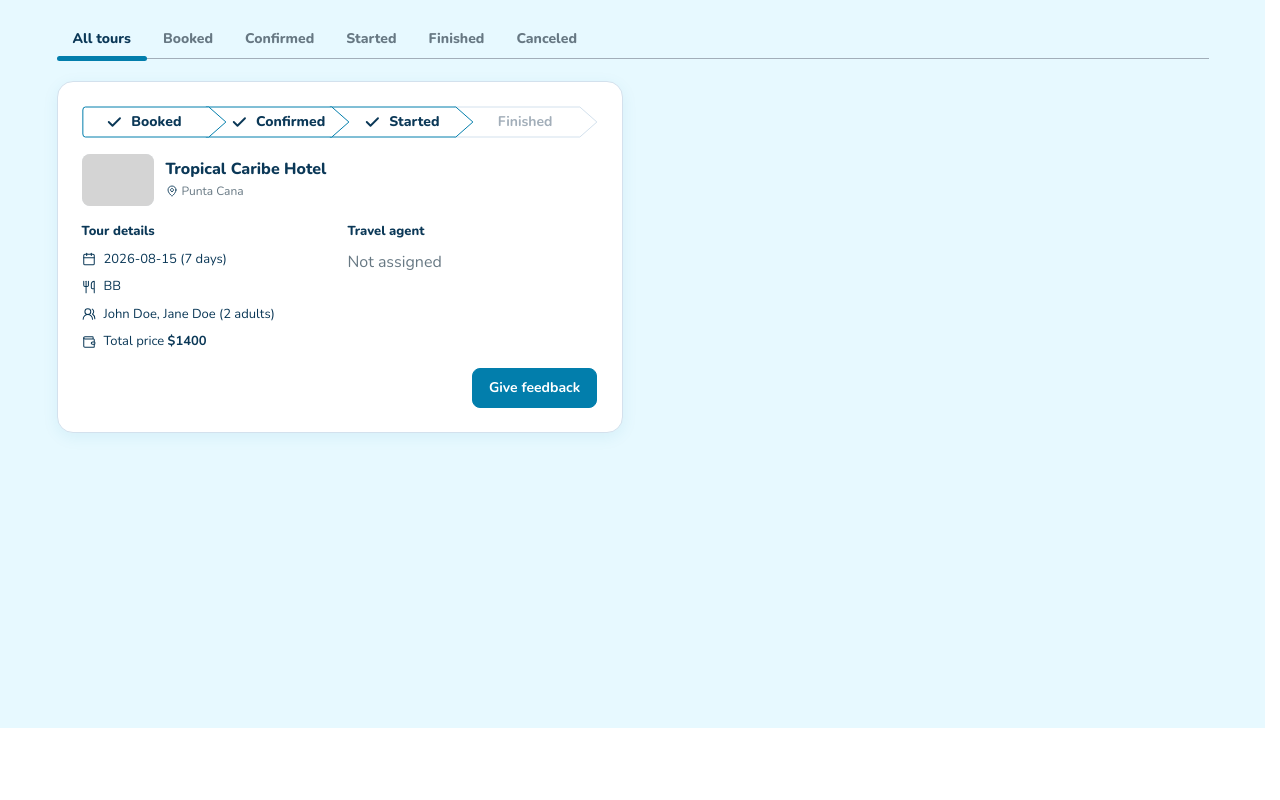
Test case: MyToursPage Component › submits feedback via bookingsService.submitFeedback and displays success toast on submit
Click the button "Give feedback" at (535,388), box [472,368,598,408]
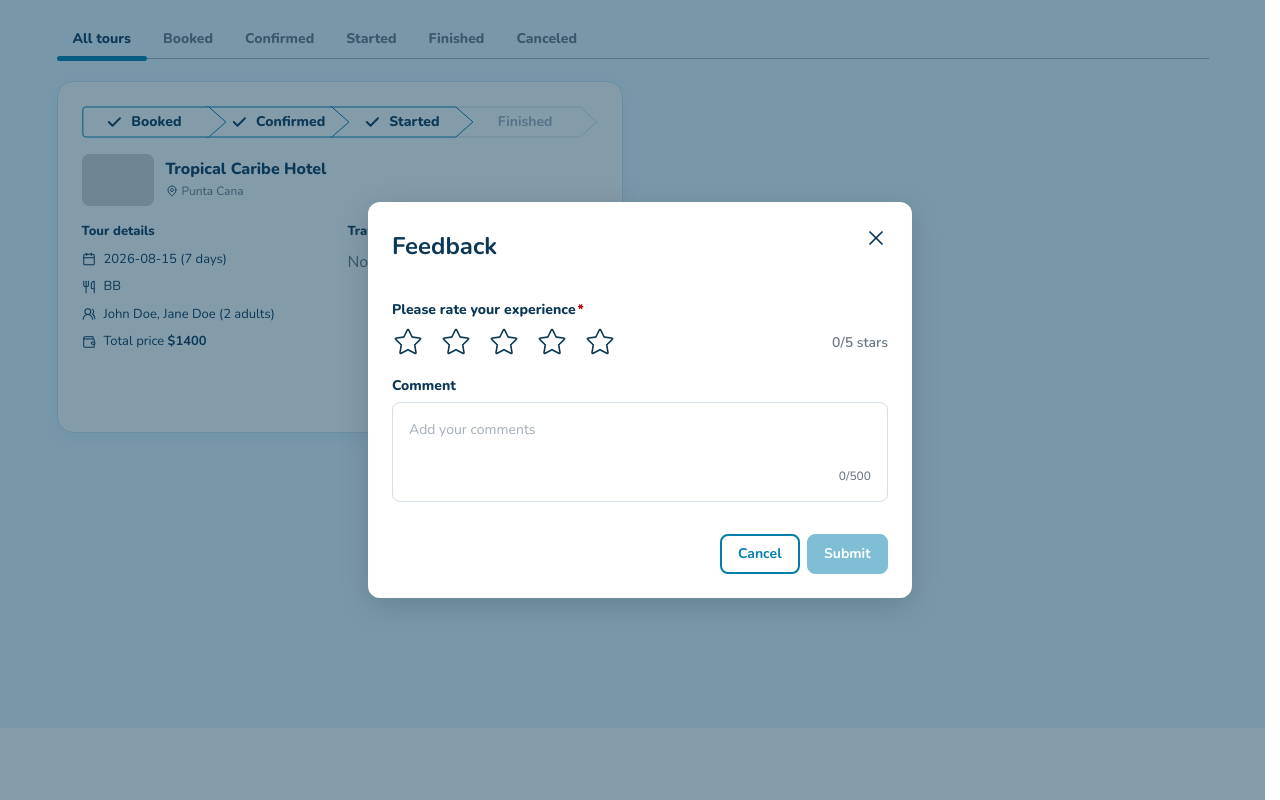
Click the button with test id "feedback-star-5" at (600,342), box [584,326,616,358]
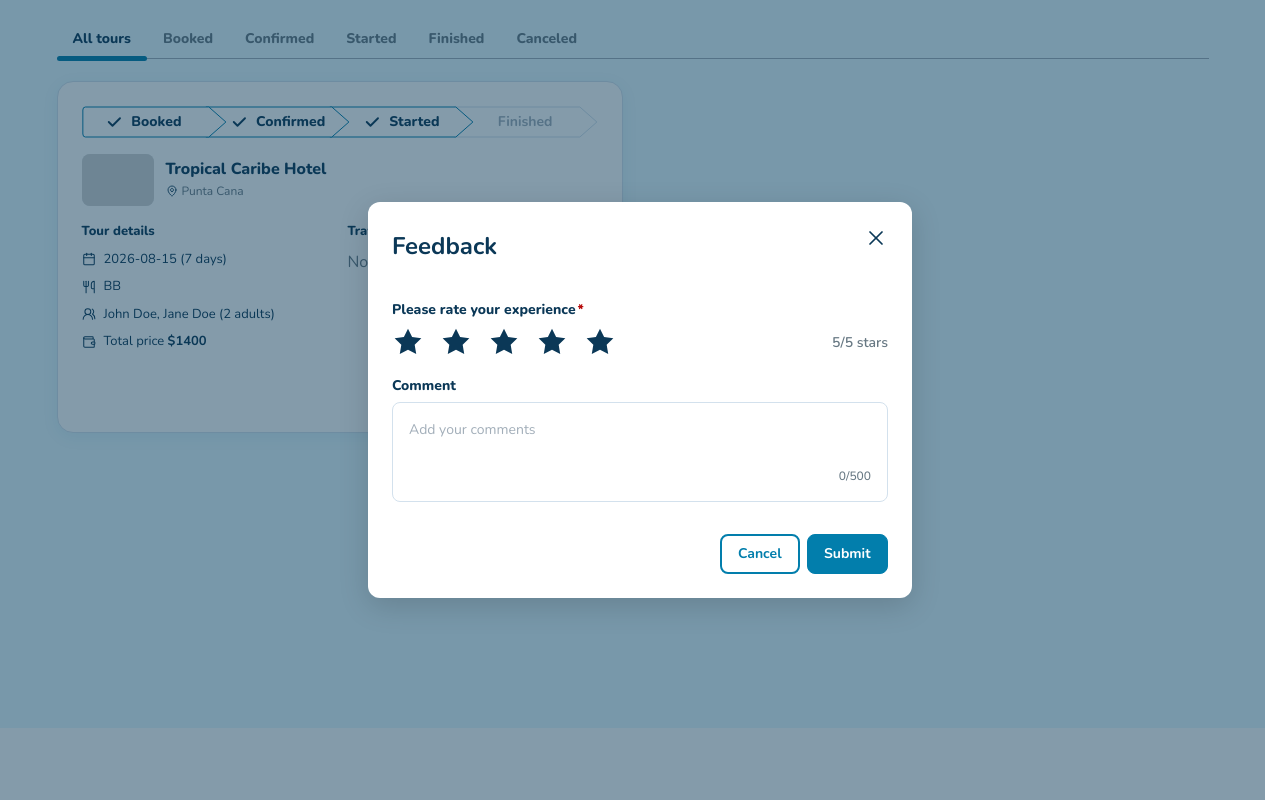
Type "Awesome tour" into the text box with test id "feedback-comment-input" at (640,443), box [409,419,871,467]
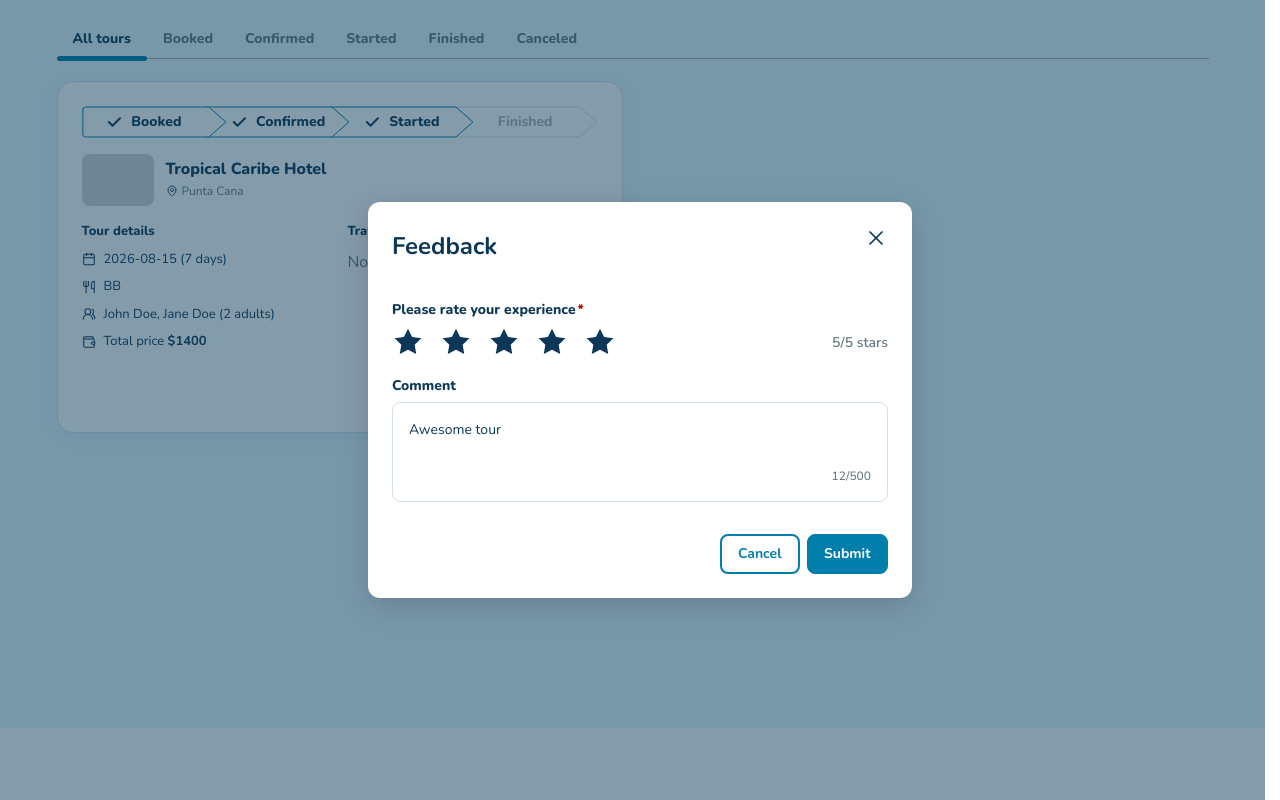
Click the button with test id "feedback-submit-btn" at (848,554), box [807,534,888,574]
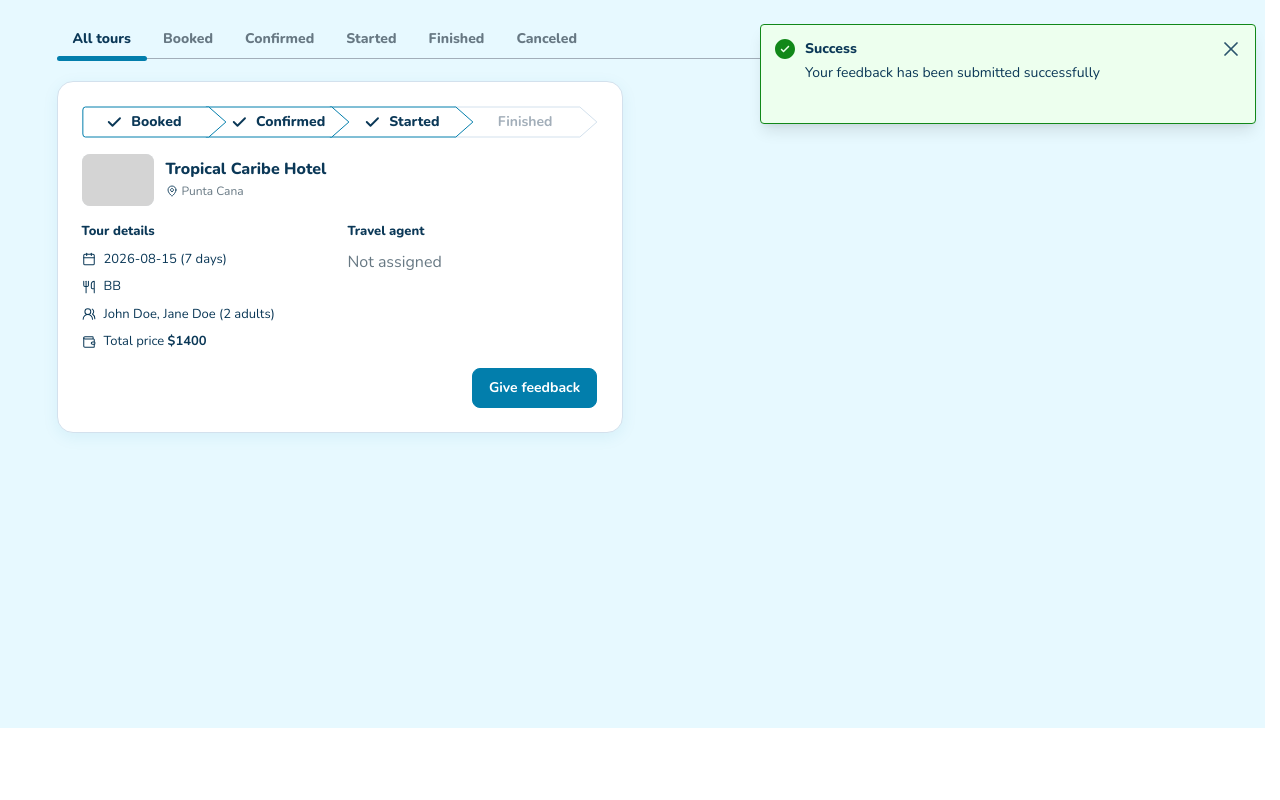
Expected: the text "Your feedback has been submitted successfully" is shown, [805,61,1100,85]
